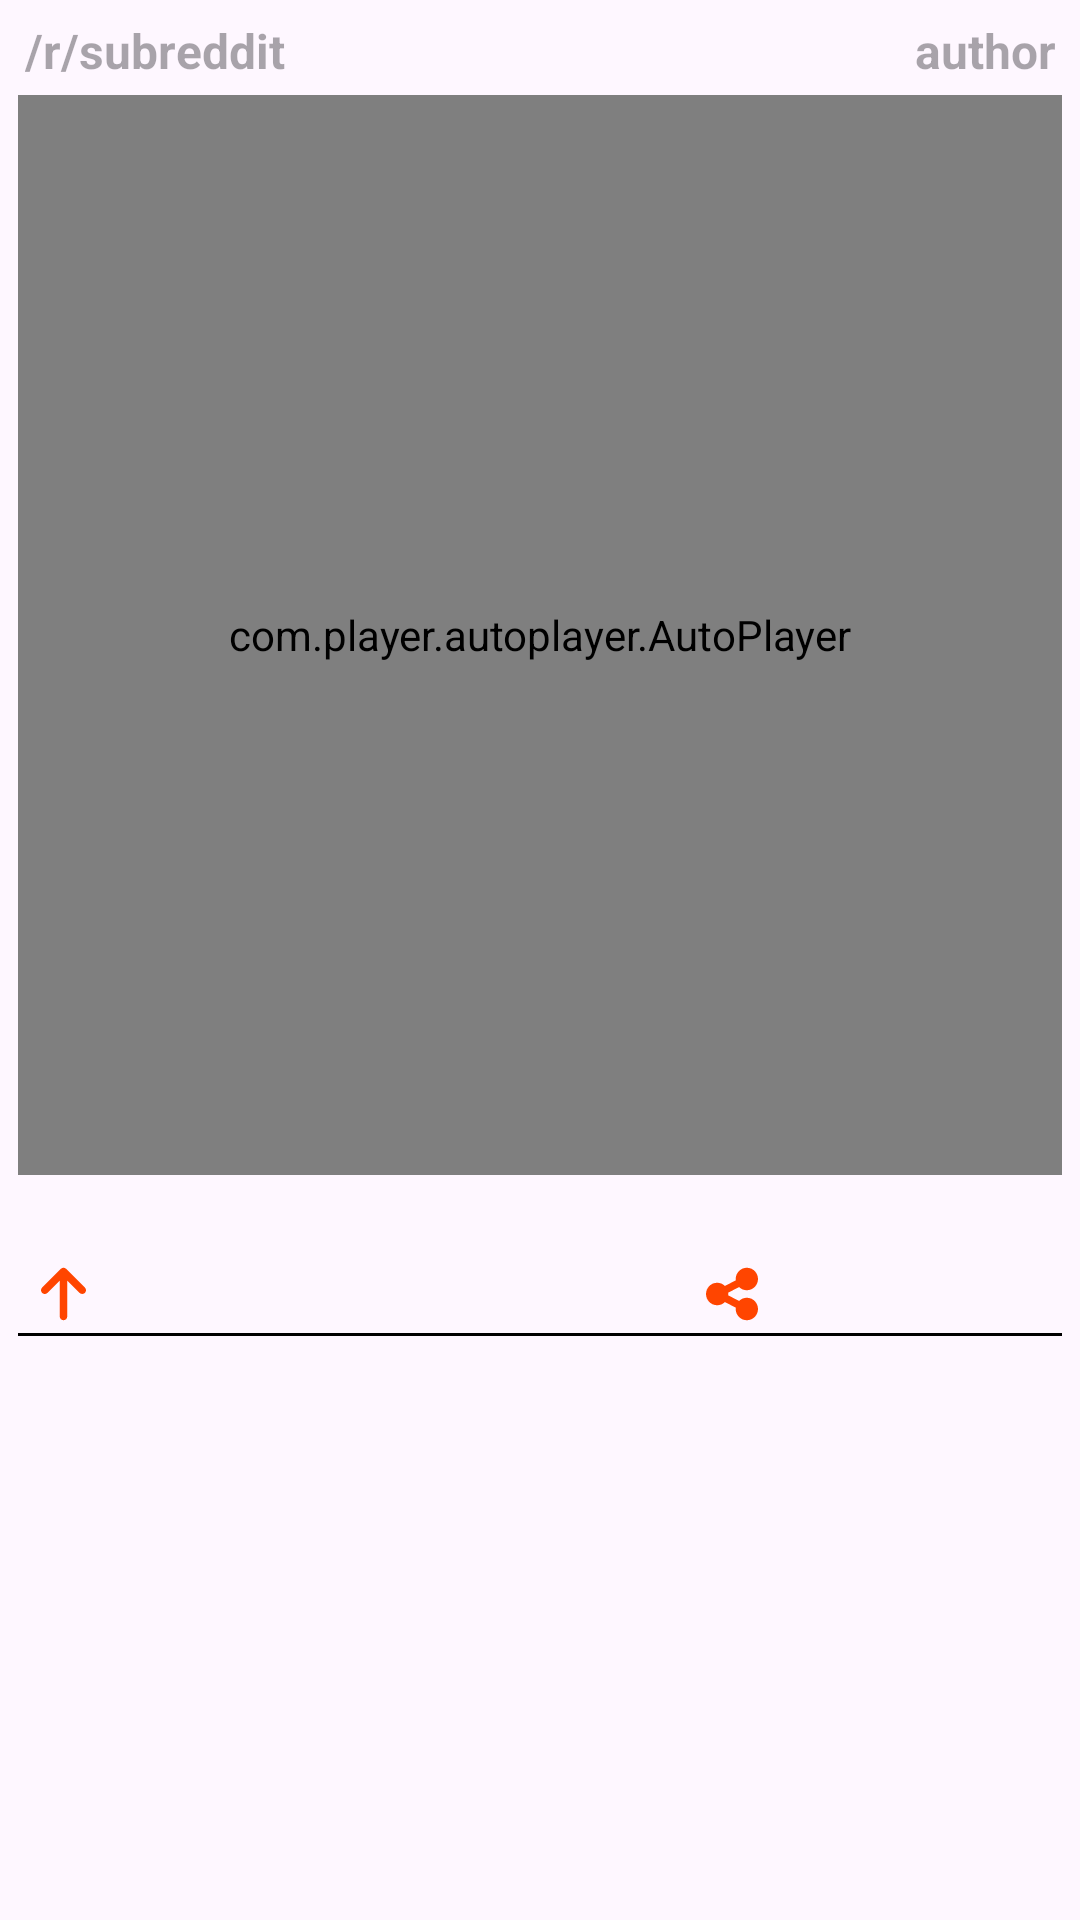

Where icons sit on this 1080px×1920px app screen, as (x1, y1, x2, y2):
share nodes: (706, 1267, 758, 1321)
upvotes: (41, 1267, 86, 1321)
